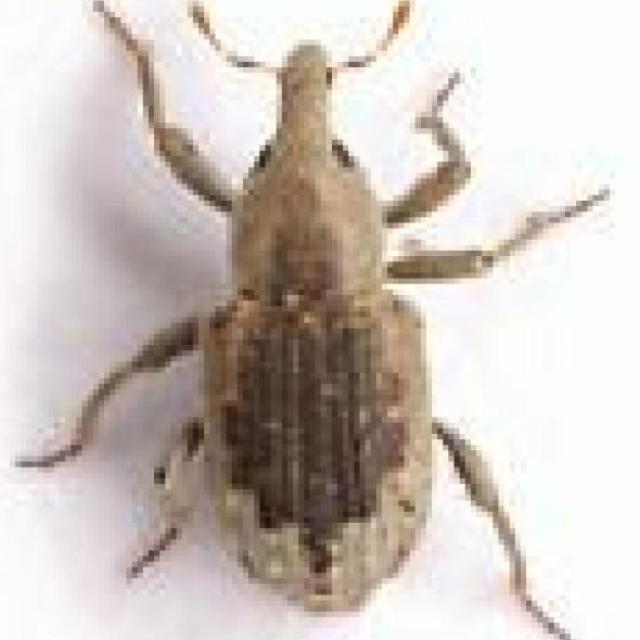ricebug: (20, 0, 609, 640), (379, 0, 411, 52)
